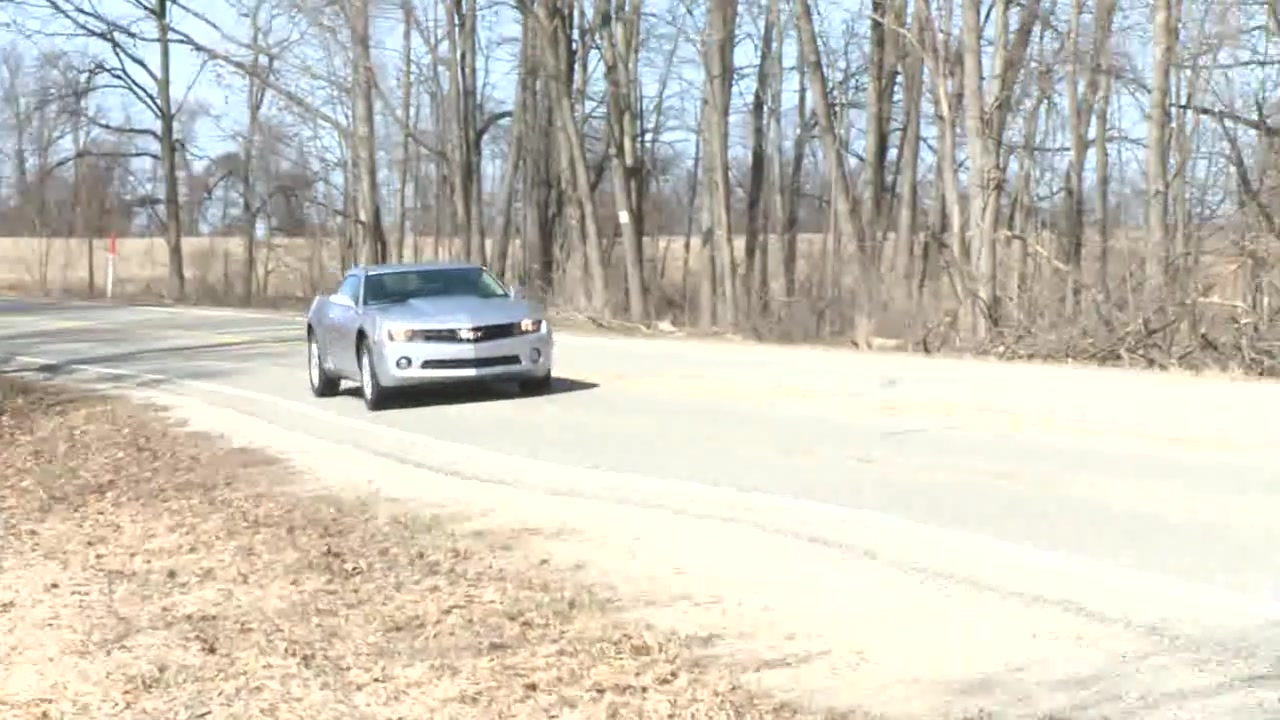car: (303, 262, 556, 411)
